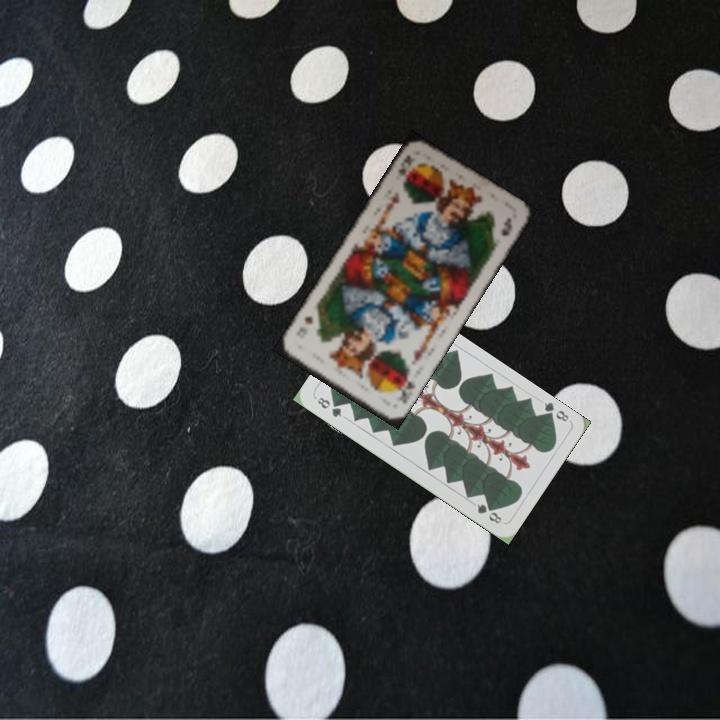G8: (312, 393, 344, 420), (539, 398, 571, 424)
SK: (394, 370, 418, 407), (394, 151, 417, 178)
